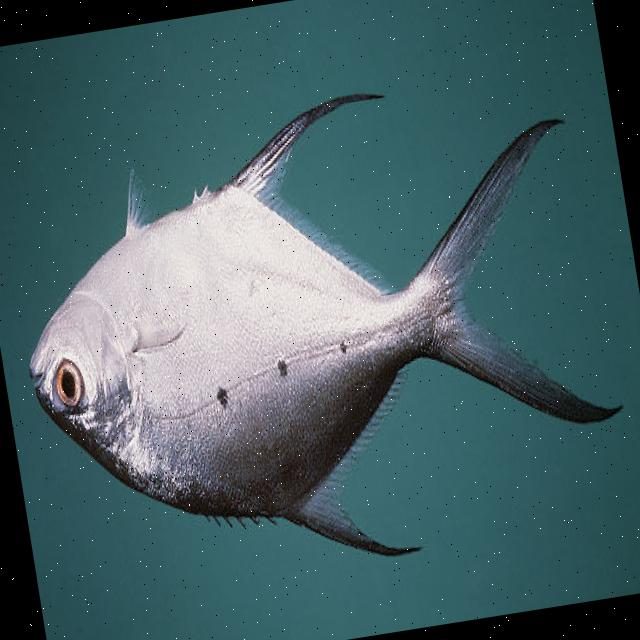ikan: (0, 59, 640, 614)
